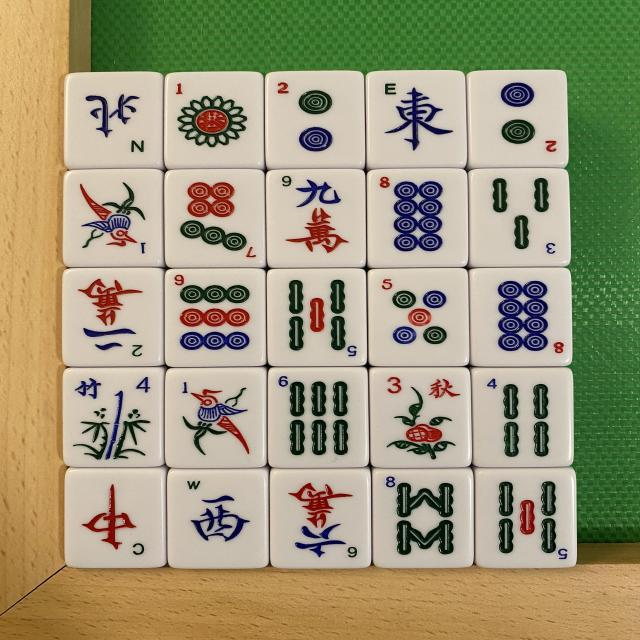bf4: (65, 368, 164, 470)
bs3: (376, 372, 464, 459)
hdr: (67, 467, 167, 568)
hwe: (369, 74, 465, 165)
hwn: (64, 76, 160, 172)
hww: (164, 475, 264, 572)
sb1: (72, 176, 158, 266), (175, 375, 258, 463)
sb3: (474, 174, 565, 262)
sb4: (477, 368, 572, 469)
sb5: (473, 468, 572, 570), (271, 272, 362, 362)
sb6: (266, 370, 364, 470)
sb8: (374, 468, 472, 570)
sc2: (60, 268, 160, 369)
sc6: (273, 468, 372, 570)
sc9: (264, 166, 362, 267)
sd1: (162, 76, 262, 170)
sd2: (267, 72, 360, 166), (469, 68, 561, 162)
sd5: (370, 266, 468, 366)
sd7: (168, 176, 262, 264)
sd8: (369, 169, 467, 268), (471, 268, 566, 369)
sd9: (166, 270, 265, 370)
